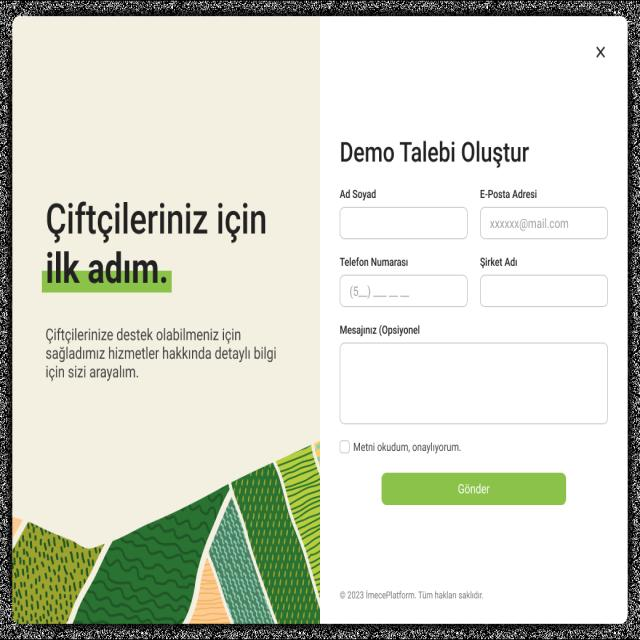QLabel: (338, 140, 531, 167), (338, 588, 487, 601), (336, 323, 424, 337), (337, 256, 412, 267), (478, 188, 538, 199), (478, 256, 521, 268), (336, 188, 378, 200), (457, 481, 492, 495)
VBtn: (380, 469, 568, 508)
VCard: (11, 13, 632, 625)
VCheckbox: (339, 438, 462, 456)
VIcon: (594, 42, 608, 61)
VImg: (14, 16, 319, 624)
VTextField: (338, 276, 468, 308), (339, 207, 468, 239), (480, 207, 609, 239), (480, 276, 608, 308)
VTextarea: (338, 342, 608, 425)
